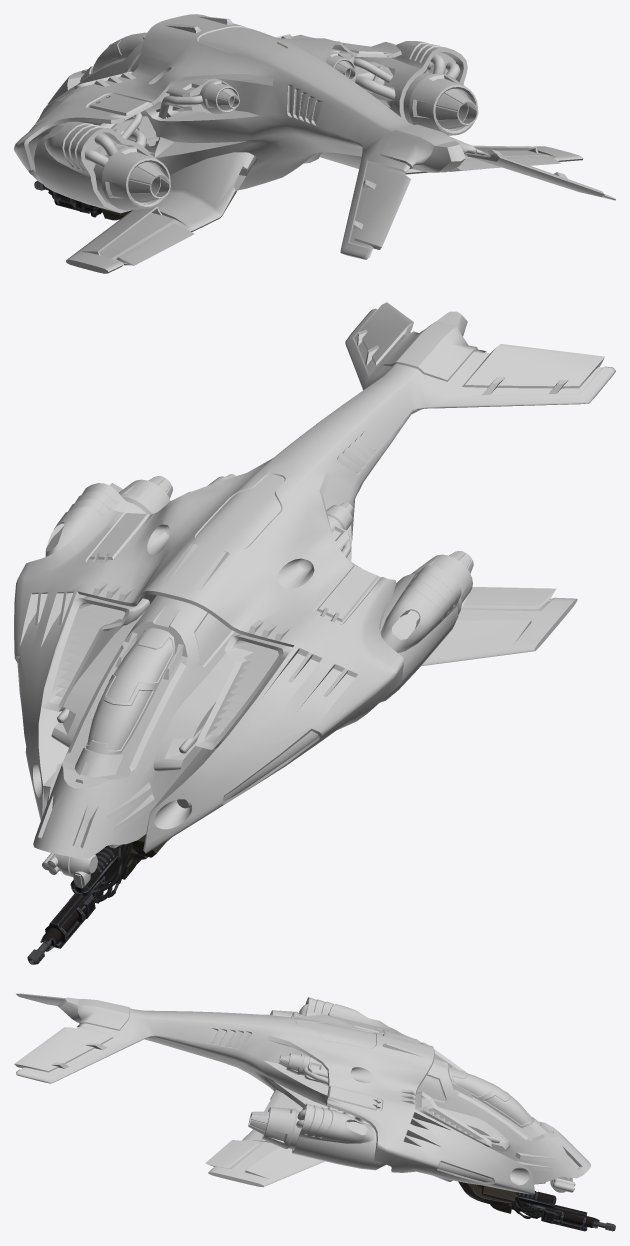
Rendered from spaceFighter.obj.
3 views of the same model, one above another, from view 1: azimuth 30°, elevation 25°; view 2: azimuth 150°, elevation 25°; view 3: azimuth 270°, elevation 25° (orthographic). The views are drawn at different scales.
Visible parts, largest first — view 1: plane_body_Mesh.127, engines_Mesh.133, gun_body_Mesh.130; view 2: plane_body_Mesh.127, engines_Mesh.133, gun_body_Mesh.130, Shape001_Mesh.132; view 3: plane_body_Mesh.127, engines_Mesh.133, gun_body_Mesh.130, gun_turret_Mesh.129.
Part boxes in pixels (bbox=[...]): plane_body_Mesh.127: bbox=[14, 14, 615, 273]; engines_Mesh.133: bbox=[34, 41, 477, 213]; gun_body_Mesh.130: bbox=[48, 189, 123, 220]; plane_body_Mesh.127: bbox=[14, 302, 615, 858]; engines_Mesh.133: bbox=[45, 479, 472, 702]; gun_body_Mesh.130: bbox=[40, 842, 136, 951]; Shape001_Mesh.132: bbox=[42, 853, 97, 888]; plane_body_Mesh.127: bbox=[14, 993, 591, 1194]; engines_Mesh.133: bbox=[262, 997, 386, 1170]; gun_body_Mesh.130: bbox=[490, 1191, 599, 1231]; gun_turret_Mesh.129: bbox=[458, 1181, 516, 1206].
Size of the model in its own units: 1.62 by 1.15 by 2.74.
